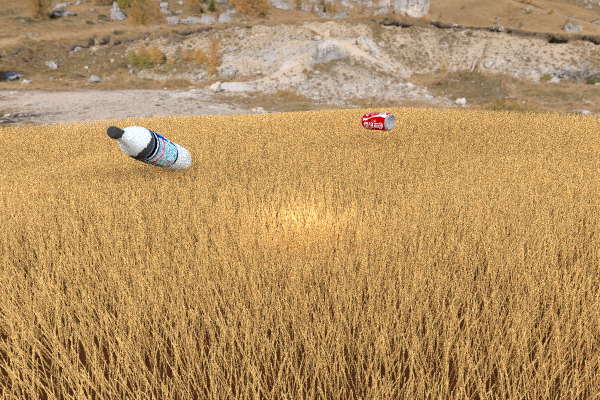bottle: (106, 126, 191, 172)
can: (0, 137, 67, 182), (360, 112, 395, 131)
